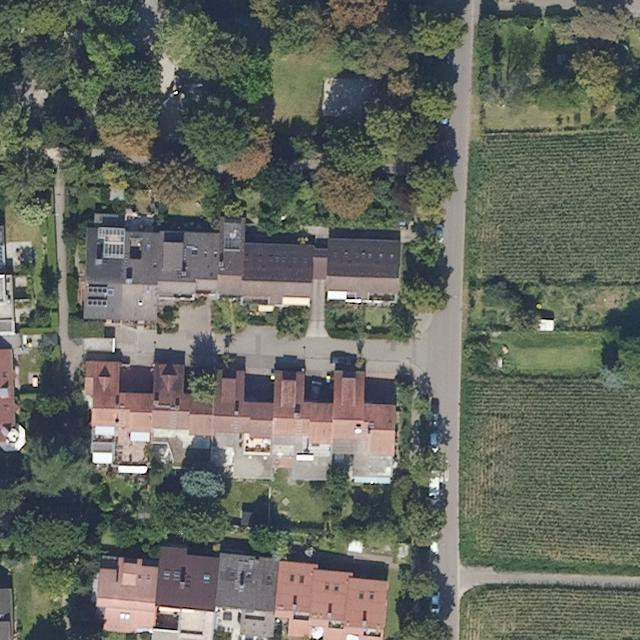PV: (85, 295, 110, 308), (87, 284, 110, 296)
